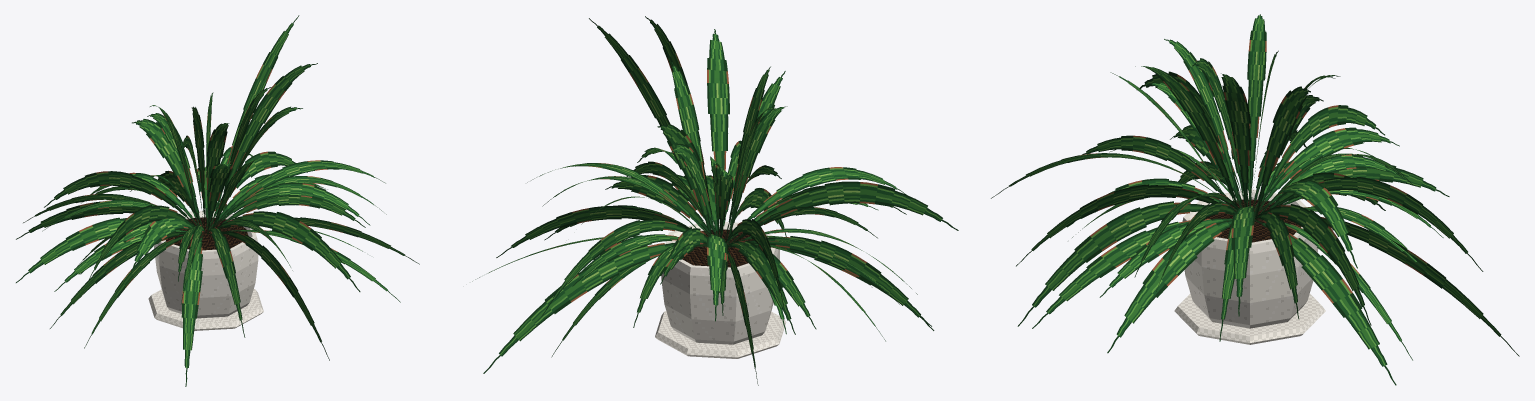
The model's file is Spider.gltf.
3 views of the same model, side by side, from view 1: azimuth 30°, elevation 25°; view 2: azimuth 150°, elevation 25°; view 3: azimuth 270°, elevation 25° (orthographic). The views are drawn at different scales.
Parts seen in each view (by area): view 1: Pot.003, Leaf_027.002, Saucer.003, Leaf_000.003, Leaf_016.003, Leaf_007.003, Leaf_018.003, Leaf_015.003, Leaf_010.003, Leaf_002.003, Leaf_021.003, Leaf_043.001 (+28 smaller); view 2: Pot.003, Leaf_002.003, Leaf_031.002, Saucer.003, Leaf_011.003, Leaf_042.001, Leaf_041.001, Leaf_037.001, Leaf_030.002, Leaf_036.001, Leaf_022.003, Leaf_045.001 (+23 smaller); view 3: Pot.003, Leaf_043.001, Saucer.003, Leaf_026.003, Leaf_035.001, Leaf_041.001, Leaf_031.002, Leaf_012.003, Leaf_030.002, Leaf_032.002, Leaf_027.002, Leaf_022.003 (+28 smaller).
Part boxes in pixels (x1,y1,x2,y2): Pot.003: (154, 210, 258, 318); Leaf_027.002: (231, 211, 360, 291); Saucer.003: (148, 289, 263, 330); Leaf_000.003: (213, 63, 317, 227); Leaf_016.003: (181, 235, 203, 386); Leaf_007.003: (44, 171, 195, 225); Leaf_018.003: (214, 182, 370, 226); Leaf_015.003: (16, 217, 189, 282); Leaf_010.003: (212, 160, 385, 227); Leaf_002.003: (87, 205, 194, 283); Leaf_021.003: (132, 119, 202, 226); Leaf_043.001: (221, 231, 329, 360); Pot.003: (661, 221, 779, 344); Leaf_002.003: (730, 181, 958, 243); Leaf_031.002: (483, 243, 706, 373); Saucer.003: (655, 311, 786, 358); Leaf_011.003: (748, 236, 934, 330); Leaf_042.001: (707, 29, 729, 234); Leaf_041.001: (496, 206, 688, 257); Leaf_037.001: (727, 167, 906, 240); Leaf_030.002: (541, 219, 686, 316); Leaf_036.001: (589, 18, 711, 233); Leaf_022.003: (728, 240, 795, 334); Leaf_045.001: (671, 62, 704, 179); Pot.003: (1182, 189, 1318, 328); Leaf_043.001: (1017, 201, 1234, 326); Saucer.003: (1174, 293, 1325, 344); Leaf_026.003: (1254, 220, 1396, 385); Leaf_035.001: (1107, 220, 1232, 353); Leaf_041.001: (1255, 204, 1371, 325); Leaf_031.002: (1277, 215, 1519, 356); Leaf_012.003: (1247, 14, 1266, 206); Leaf_030.002: (1273, 177, 1483, 271); Leaf_032.002: (1032, 219, 1210, 328); Leaf_027.002: (1016, 184, 1217, 266); Leaf_022.003: (1259, 127, 1399, 208).
Size of the model in its own units: 5.61 by 3.94 by 5.74.
Materials: 4 (4 with a texture image).
